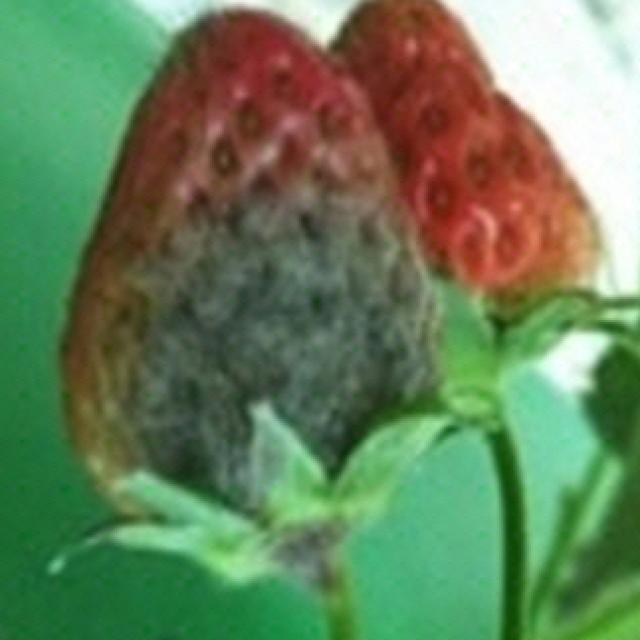Gray Mold: (61, 12, 447, 522)
